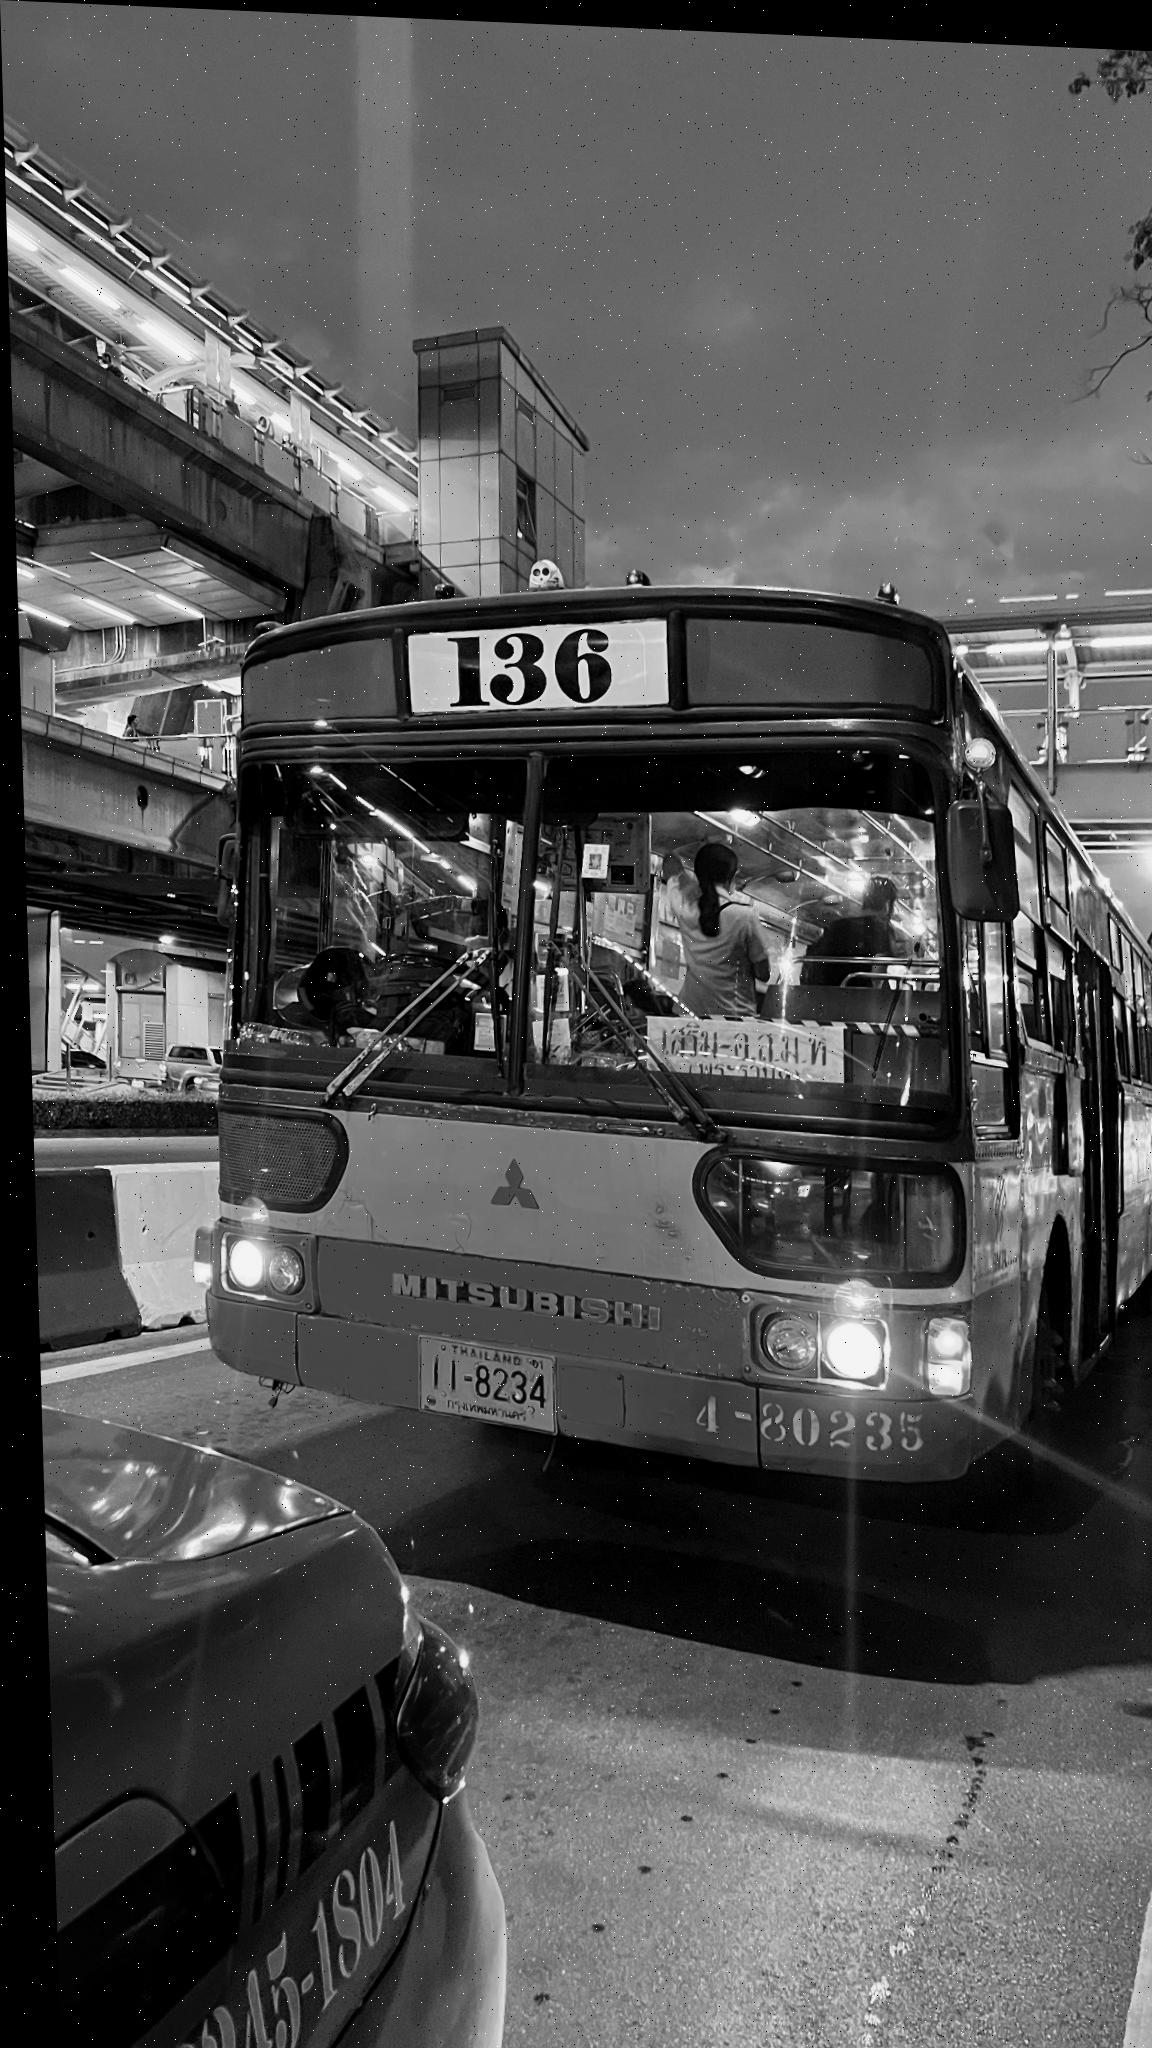BMTA-bus: (186, 574, 1152, 1487)
Bus Line Number: (422, 615, 617, 706)
Bus Side Number: (691, 1381, 924, 1457)
Destination Sign: (636, 1006, 841, 1077)
